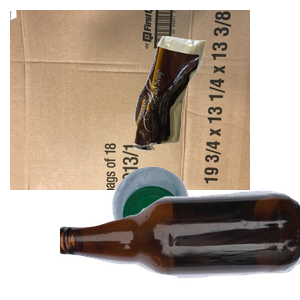cardboard: (10, 10, 250, 190)
glass: (60, 188, 300, 300)
plastic: (110, 164, 300, 300)
trash: (131, 34, 300, 177)
